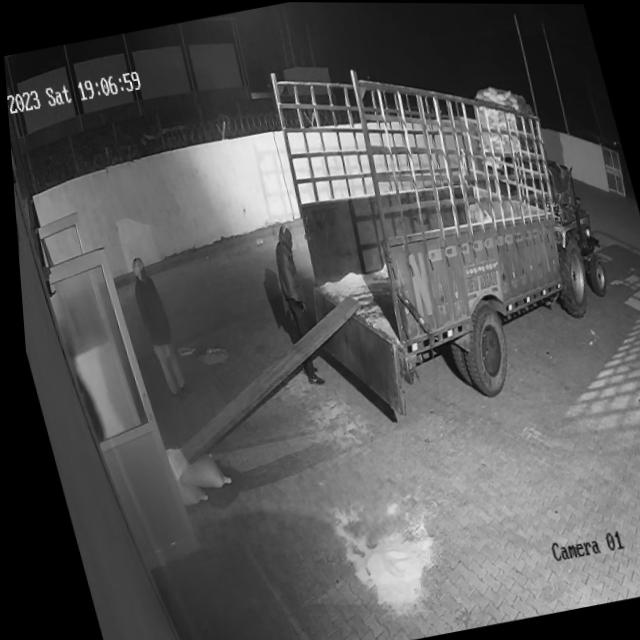sack: (159, 439, 225, 496)
